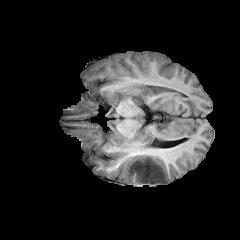glioma: (127, 154, 172, 183)
